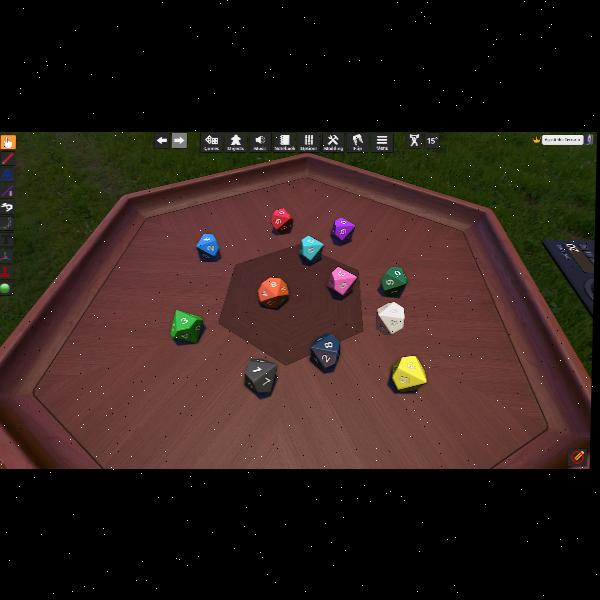d10: (391, 354, 426, 390), (244, 358, 278, 394), (170, 309, 204, 343), (310, 333, 341, 369), (258, 276, 289, 308), (376, 301, 404, 333), (380, 267, 408, 297), (328, 266, 356, 296), (298, 234, 323, 262), (329, 216, 353, 241), (196, 233, 219, 259), (271, 206, 293, 232)
